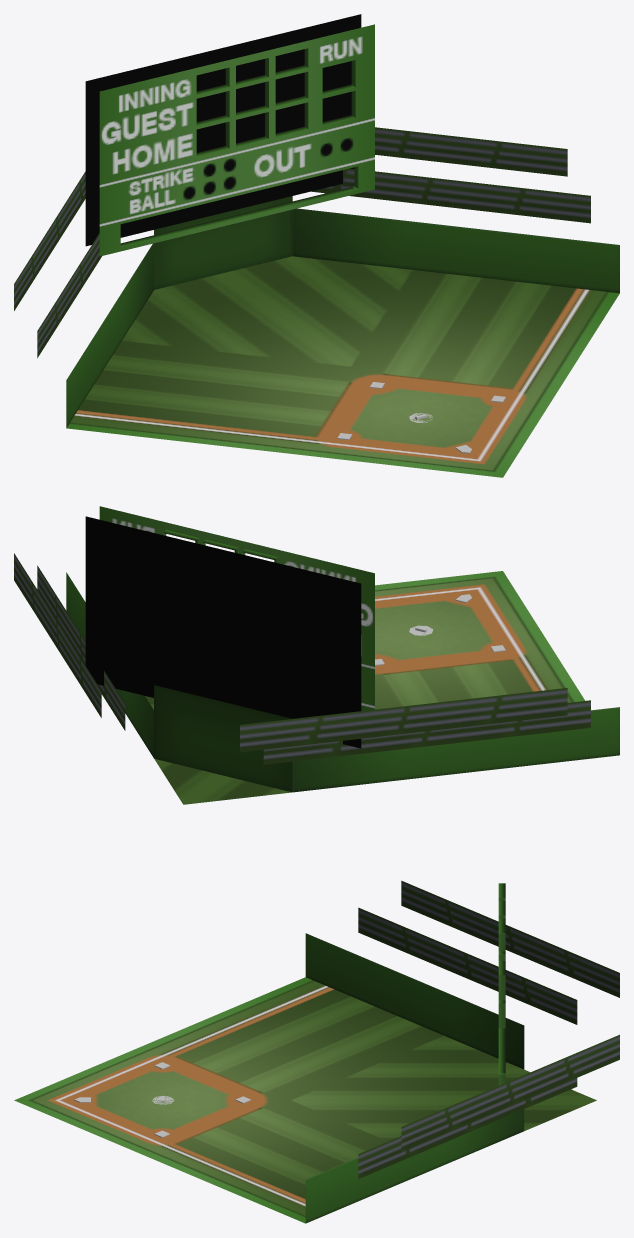
File: E_Field_H-4-Export_.dae
3 views of the same model, one above another, from view 1: azimuth 30°, elevation 25°; view 2: azimuth 150°, elevation 25°; view 3: azimuth 270°, elevation 25° (orthographic). The views are drawn at different scales.
Visible parts, largest first — view 1: Mesh_X_Stadium, Mesh_X_Scoreboard; view 2: Mesh_X_Stadium, Mesh_X_Scoreboard; view 3: Mesh_X_Stadium, Mesh_X_Scoreboard.
Boxes of the visible parts, x1,y1,x2,y2 form: Mesh_X_Stadium: [14, 127, 619, 477]; Mesh_X_Scoreboard: [85, 14, 374, 256]; Mesh_X_Stadium: [14, 553, 619, 804]; Mesh_X_Scoreboard: [85, 506, 374, 748]; Mesh_X_Stadium: [14, 880, 619, 1223]; Mesh_X_Scoreboard: [498, 883, 505, 1085].
Bounding box in the file's own units: 52.56 × 20.49 × 54.6.
Materials: 2 (1 with a texture image).
